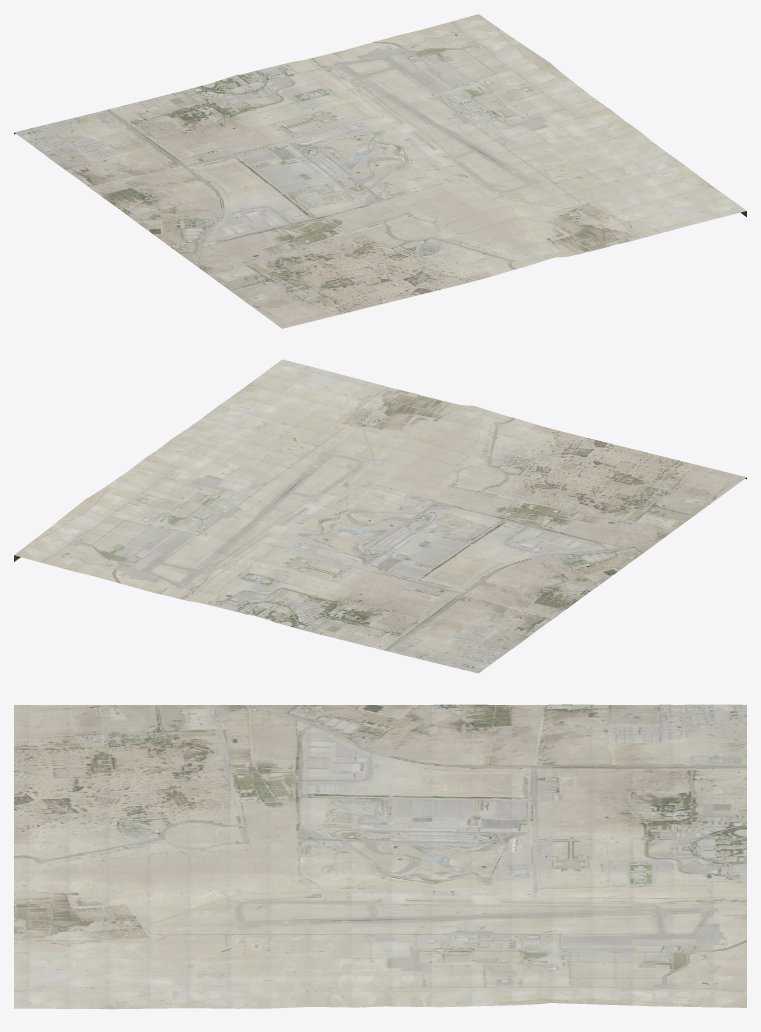
Rendered from 04_bahrain_gp.glb.
3 views of the same model, one above another, from view 1: azimuth 30°, elevation 25°; view 2: azimuth 150°, elevation 25°; view 3: azimuth 270°, elevation 25° (orthographic). The views are drawn at different scales.
Visible parts, largest first — view 1: tinMesh; view 2: tinMesh; view 3: tinMesh.
Part boxes in pixels (x1,y1,x2,y2): tinMesh: [14, 14, 746, 328]; tinMesh: [14, 359, 746, 673]; tinMesh: [14, 704, 746, 1009].
Size of the model in its own units: 5572 by 123 by 5571.
Materials: 2 (2 with a texture image).
